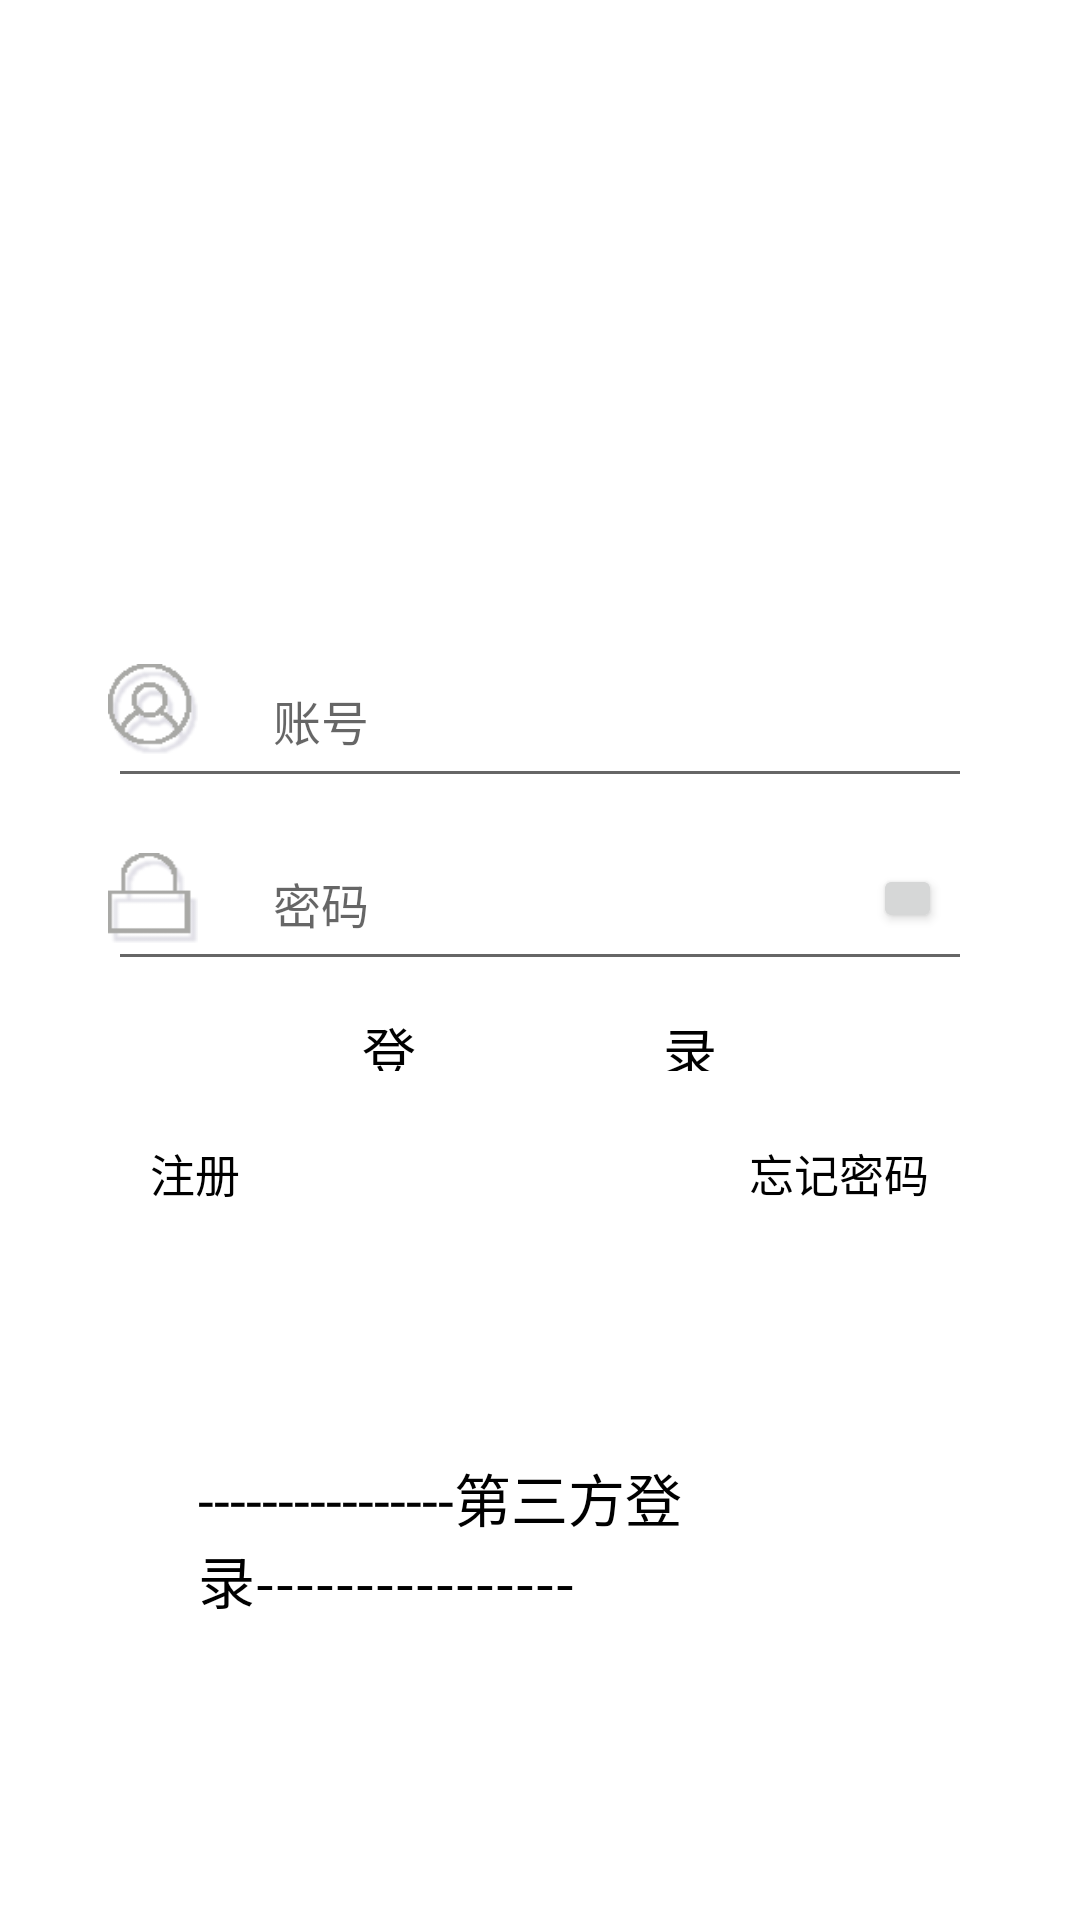

Locate icon controls on the screen. Image size 1080*1920, boxes as (x1=x1, y1=y1, x2=x2, y2=y2).
mima: (x1=108, y1=853, x2=195, y2=940)
zhanghao: (x1=108, y1=664, x2=195, y2=751)
